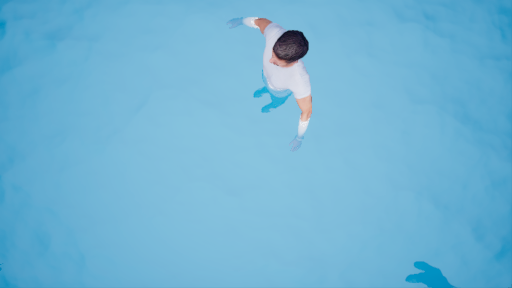person: (228, 12, 322, 152)
